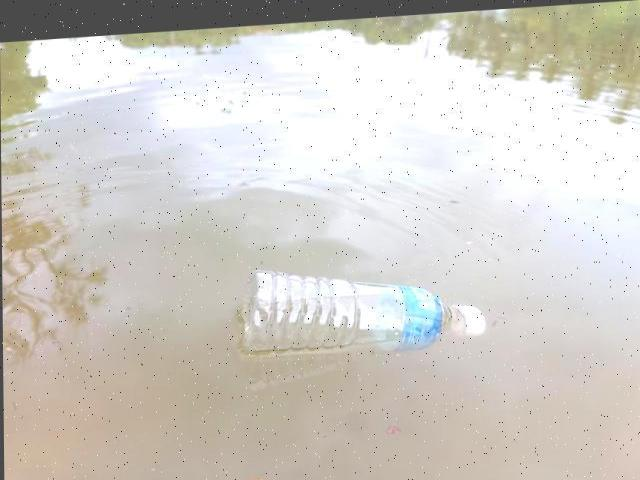Bottle: (234, 270, 492, 362)
